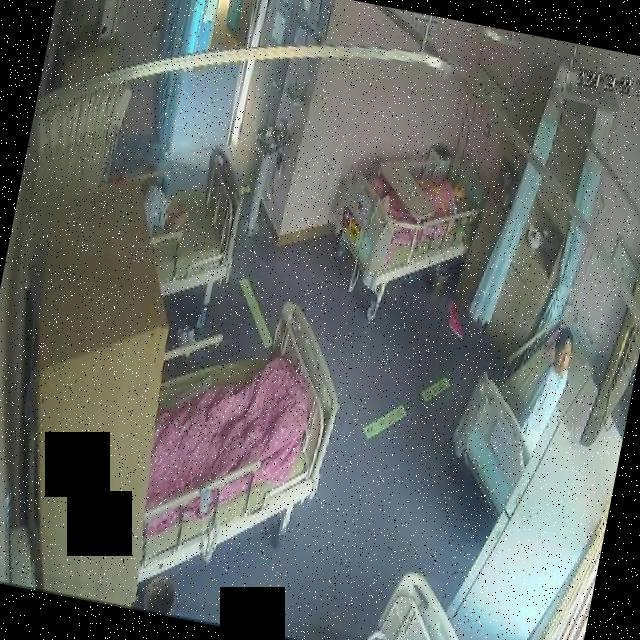bed: (128, 287, 350, 581), (441, 290, 596, 529), (326, 134, 492, 306), (132, 134, 255, 305)
patient: (512, 322, 579, 452)
sit: (511, 320, 579, 451)
